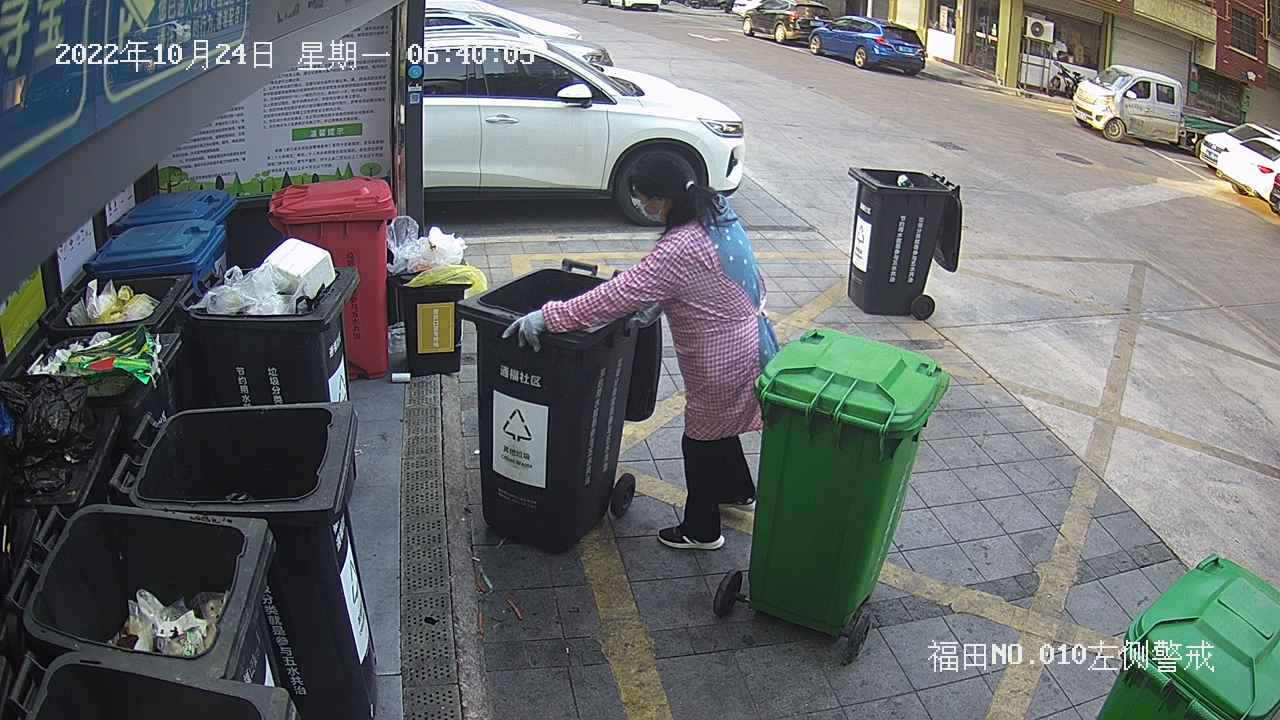person: (497, 140, 792, 556)
